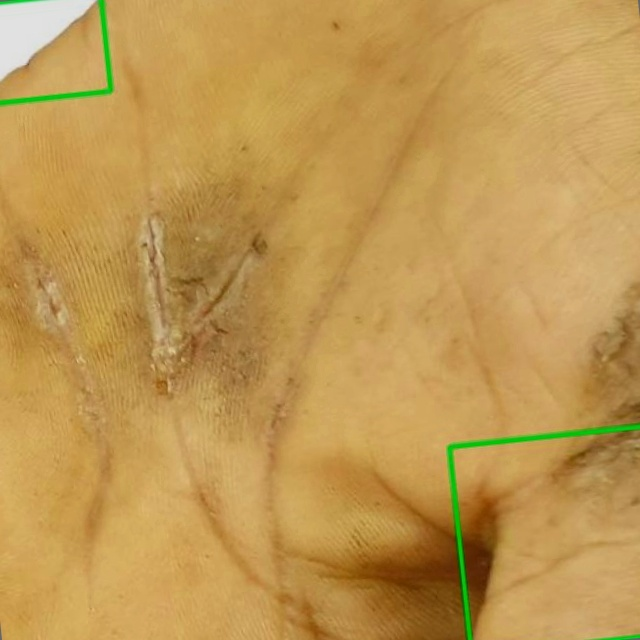Contact Dermatitis: (449, 426, 639, 639), (0, 0, 111, 102)
